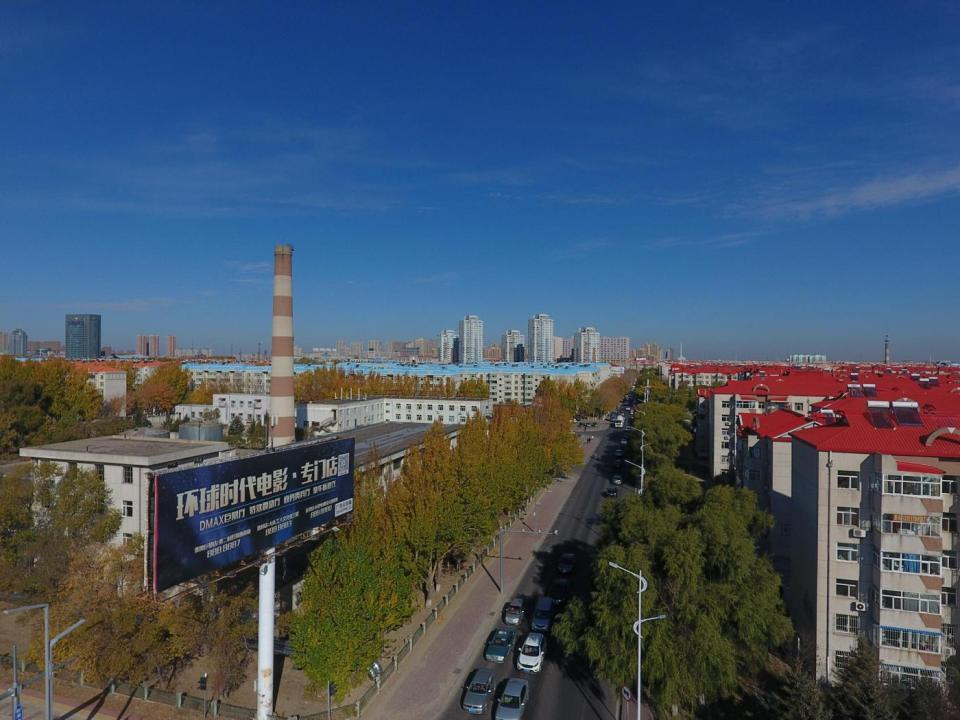car: (462, 668, 497, 714), (494, 678, 530, 720), (516, 632, 546, 674), (484, 626, 515, 665), (504, 598, 526, 625), (548, 578, 570, 604), (557, 552, 576, 574), (605, 487, 618, 498), (612, 475, 623, 485), (615, 449, 623, 457), (614, 460, 622, 468), (567, 430, 576, 436), (620, 439, 628, 445), (625, 426, 631, 432), (566, 419, 576, 422), (625, 434, 630, 438), (592, 422, 597, 426), (579, 423, 584, 427), (624, 400, 628, 404), (630, 409, 634, 413), (586, 422, 590, 426), (575, 417, 580, 420), (633, 403, 636, 407), (626, 407, 630, 410), (632, 402, 637, 404), (633, 406, 636, 409), (632, 401, 636, 403), (630, 409, 634, 411), (620, 412, 624, 414), (630, 389, 633, 391), (633, 399, 636, 401), (621, 409, 624, 411), (631, 395, 633, 397), (630, 397, 632, 398)
truck: (615, 415, 625, 427), (610, 411, 619, 422)
van: (531, 597, 553, 632), (630, 411, 633, 415)
